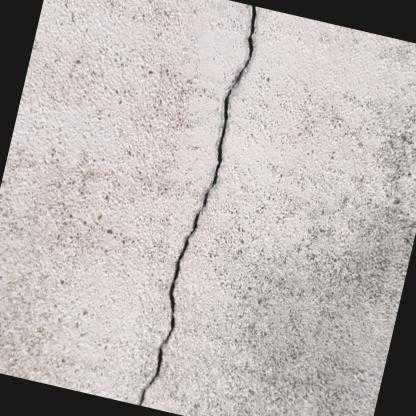crack: (137, 4, 255, 406)
